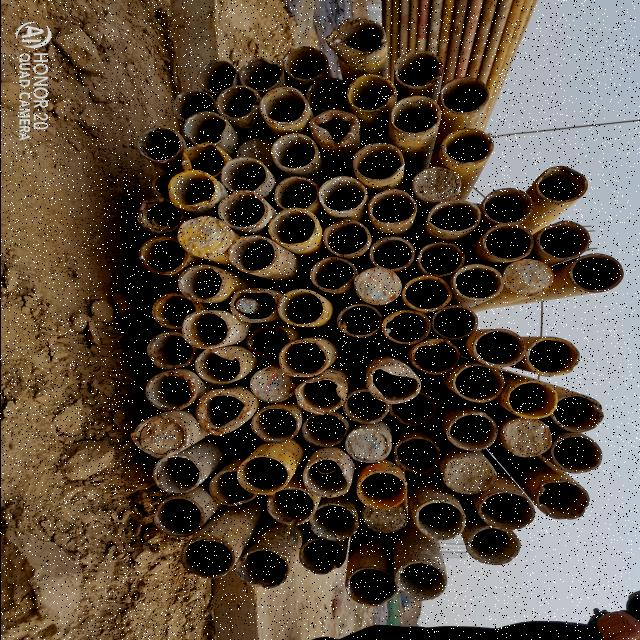pipe: (330, 18, 386, 60), (176, 215, 232, 257), (477, 491, 534, 531), (132, 416, 186, 458), (197, 390, 248, 434), (464, 526, 520, 566), (440, 456, 496, 496), (393, 560, 446, 602), (536, 480, 590, 521), (152, 496, 205, 537), (526, 336, 580, 376), (444, 412, 498, 452), (166, 168, 217, 210), (537, 220, 590, 260), (182, 538, 235, 578), (236, 455, 289, 495), (215, 189, 266, 230), (235, 550, 290, 588), (350, 142, 402, 182), (414, 501, 466, 541), (344, 568, 396, 608), (472, 328, 526, 366), (389, 96, 441, 135), (549, 436, 601, 475), (367, 368, 423, 404), (146, 330, 196, 370), (440, 128, 492, 166), (570, 254, 622, 292), (267, 208, 319, 246), (453, 364, 505, 402), (301, 458, 350, 498), (501, 418, 552, 456), (267, 208, 319, 245), (550, 395, 602, 432), (228, 234, 276, 274), (146, 372, 194, 412), (482, 222, 532, 260), (504, 258, 554, 296), (537, 166, 588, 203), (394, 49, 442, 88), (505, 382, 557, 418), (356, 473, 408, 509), (309, 110, 358, 148), (152, 455, 201, 493), (265, 488, 315, 525), (137, 196, 185, 234), (138, 237, 186, 275), (402, 274, 450, 312), (180, 311, 228, 349), (250, 365, 298, 403), (346, 75, 396, 111), (482, 189, 532, 225), (367, 190, 417, 226), (410, 338, 460, 374), (440, 77, 488, 114), (316, 176, 364, 213), (209, 471, 259, 506), (194, 349, 244, 384), (276, 341, 326, 376), (249, 408, 299, 443), (178, 265, 224, 303), (278, 289, 324, 327), (297, 537, 343, 575), (220, 158, 268, 194), (229, 288, 277, 324), (342, 388, 390, 424), (295, 379, 344, 414), (452, 266, 502, 300), (410, 167, 460, 201), (311, 505, 358, 541), (362, 498, 410, 533), (270, 132, 314, 170), (427, 201, 479, 233), (260, 88, 306, 124), (136, 126, 182, 162), (368, 236, 414, 272), (310, 257, 356, 293), (393, 438, 439, 474), (151, 294, 199, 328), (344, 427, 392, 461), (274, 175, 318, 212), (324, 220, 369, 256), (182, 142, 225, 179), (182, 110, 226, 146), (356, 268, 400, 304), (388, 394, 437, 426), (418, 242, 464, 276), (336, 304, 382, 338), (300, 414, 346, 448), (244, 326, 290, 360), (305, 77, 350, 111), (384, 310, 429, 344), (431, 305, 476, 339), (284, 46, 328, 80), (239, 57, 283, 91), (215, 86, 258, 120), (196, 59, 238, 93), (215, 422, 259, 454), (173, 90, 215, 123), (234, 136, 276, 168), (151, 169, 191, 202)
